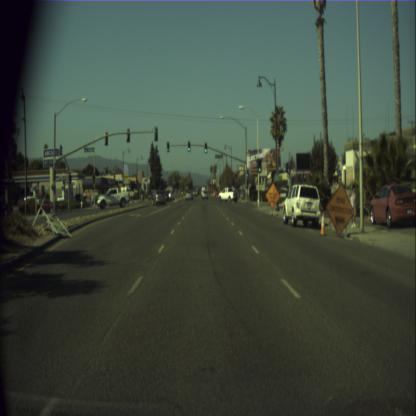Green: (256, 159, 262, 173), (245, 168, 249, 178), (187, 140, 190, 152), (204, 142, 207, 153)
GreenLeft: (166, 141, 169, 152)
